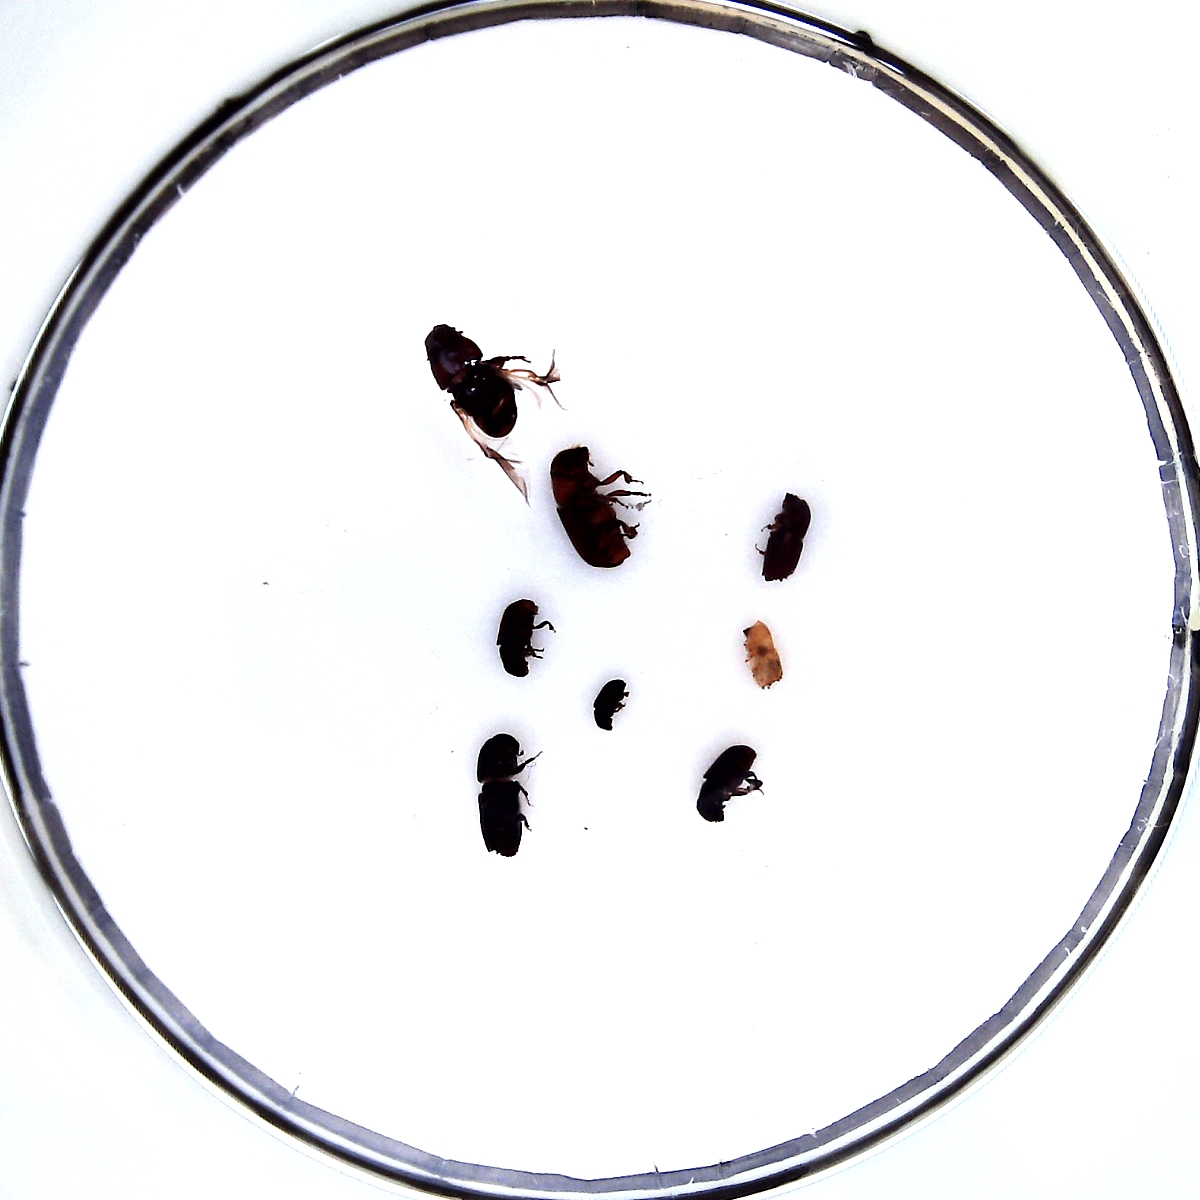Boerner: (478, 732, 530, 858)
Leconte: (423, 323, 518, 440), (549, 446, 632, 567)
acuminatus: (593, 677, 626, 732)
armandi: (696, 743, 757, 823), (496, 598, 541, 678)
coleoptera: (741, 616, 782, 692)
linnaeus: (763, 492, 812, 584)
